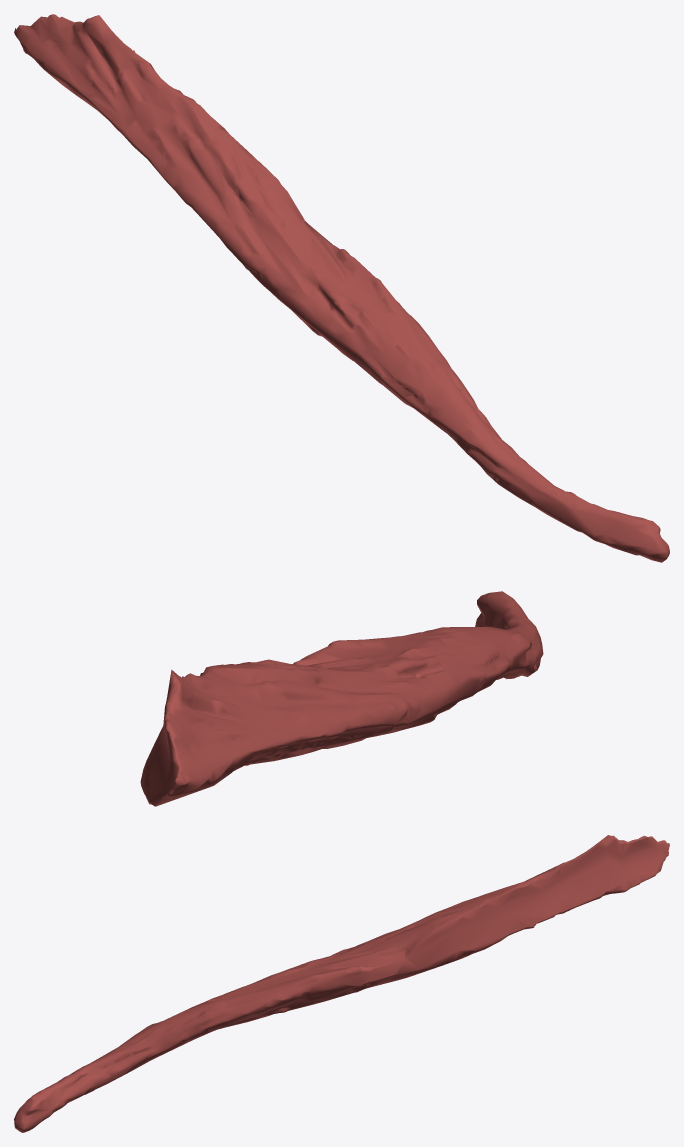
The model's file is FMA37744.glb.
3 renders of one model, top to bottom at view 1: azimuth 30°, elevation 25°; view 2: azimuth 150°, elevation 25°; view 3: azimuth 270°, elevation 25°, orthographic. The views are drawn at different scales.
Parts seen in each view (by area): view 1: FMA37744; view 2: FMA37744; view 3: FMA37744.
Part boxes in pixels (x1,y1,x2,y2): FMA37744: [14, 14, 669, 562]; FMA37744: [140, 591, 543, 806]; FMA37744: [14, 835, 669, 1132].
Size of the model in its own units: 0.016 by 0.0203 by 0.0518.
